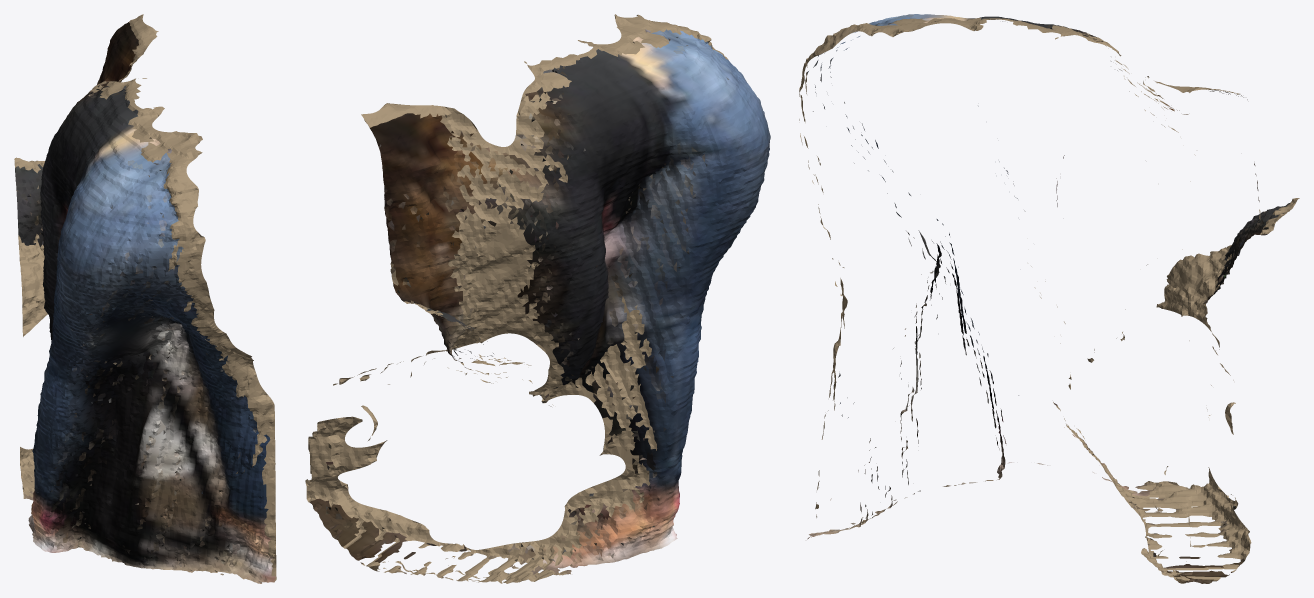
3 renders of one model, left to right at view 1: azimuth 30°, elevation 25°; view 2: azimuth 150°, elevation 25°; view 3: azimuth 270°, elevation 25°, orthographic. The views are drawn at different scales.
Bounding box in the file's own units: 0.7039 × 0.9716 × 0.8972.
1 material, 1 textured.
